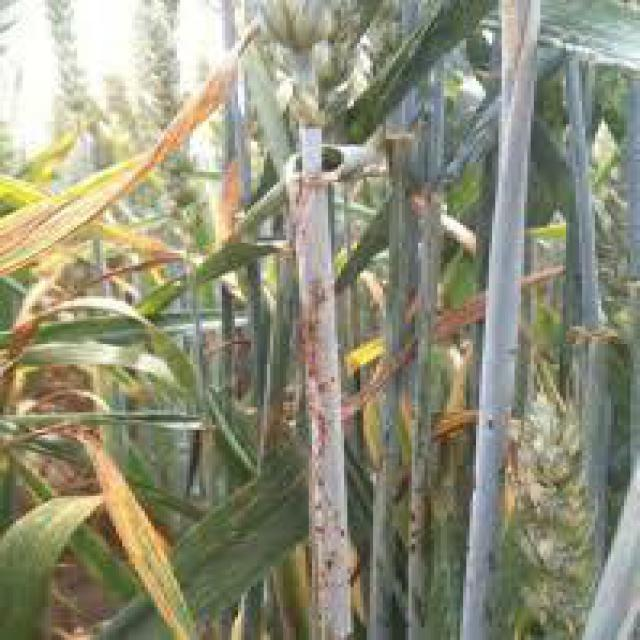wheat-stemrust: (302, 254, 345, 570)
